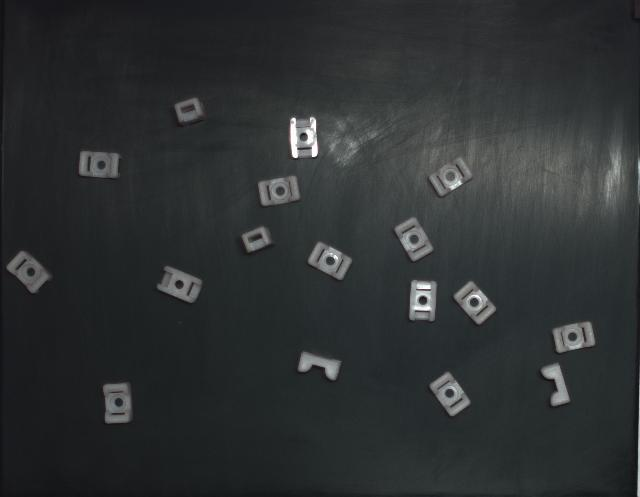first_side: (6, 251, 52, 294), (454, 281, 496, 325), (430, 372, 470, 418), (429, 158, 472, 198), (308, 242, 352, 281), (395, 218, 434, 262), (552, 321, 595, 354), (258, 176, 301, 206), (102, 382, 132, 424), (79, 151, 121, 179)
fourth_side: (174, 98, 208, 126), (241, 226, 274, 254)
second_side: (156, 266, 202, 304), (290, 117, 318, 158), (409, 280, 436, 322)
third_side: (541, 362, 570, 408), (298, 352, 341, 381)
